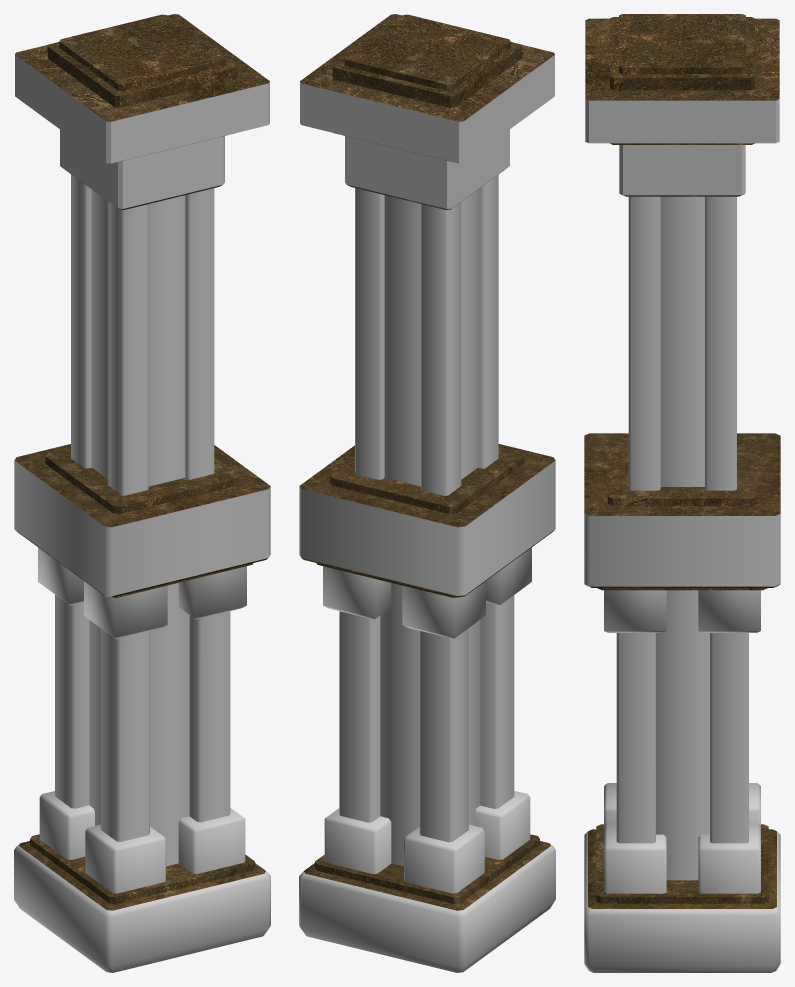
The model's file is DG_PilarBigB_6m.FBX.
3 views of the same model, side by side, from view 1: azimuth 30°, elevation 25°; view 2: azimuth 150°, elevation 25°; view 3: azimuth 270°, elevation 25° (orthographic). The views are drawn at different scales.
Parts seen in each view (by area): view 1: DG_PilarBigB_6m; view 2: DG_PilarBigB_6m; view 3: DG_PilarBigB_6m.
Part boxes in pixels (box(x1,y1,x2,y2)): DG_PilarBigB_6m: box(14, 14, 270, 972); DG_PilarBigB_6m: box(299, 14, 555, 972); DG_PilarBigB_6m: box(584, 14, 780, 972).
Size of the model in its own units: 125 by 628 by 125.
